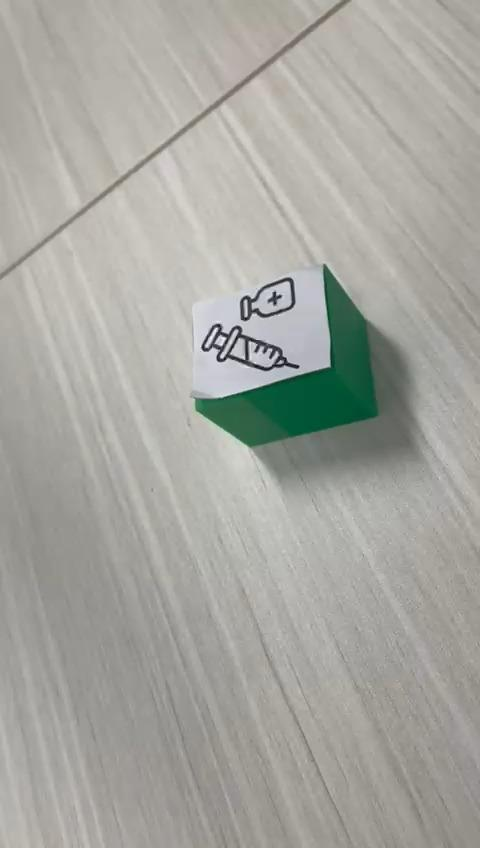antiseptic cream: (188, 261, 379, 448)
